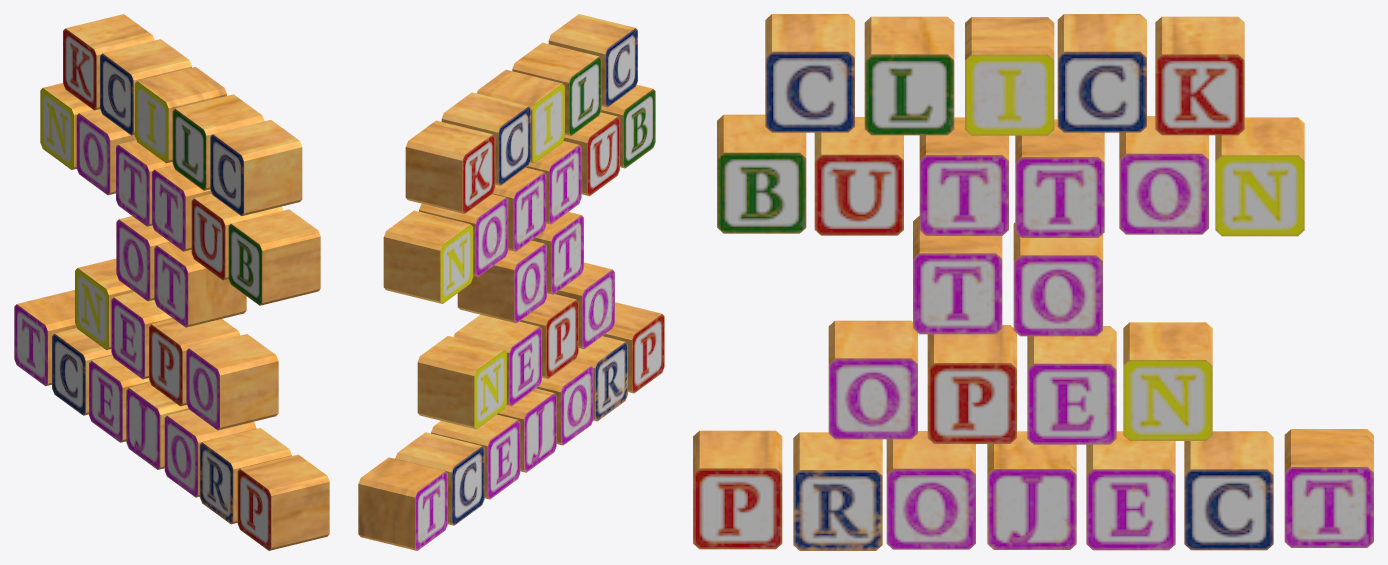
3 views of the same model, side by side, from view 1: azimuth 30°, elevation 25°; view 2: azimuth 150°, elevation 25°; view 3: azimuth 270°, elevation 25° (orthographic). The views are drawn at different scales.
Parts seen in each view (by area): view 1: O_low_DCletterblocks_0.003, C_low, B_low, P_low_DCletterblocks_0.002, T_low_DCletterblocks_0.003, I_low, R_low, L_low, C_low_DCletterblocks_0.002, K_low, P_low, T_low_DCletterblocks_0.004 (+12 smaller); view 2: K_low, N_low, T_low_DCletterblocks_0.004, N_low_DCletterblocks_0.002, O_low_DCletterblocks_0.002, C_low, L_low, C_low_DCletterblocks_0.002, C_low_DCletterblocks_0.003, I_low, E_low, E_low_DCletterblocks_0.002 (+12 smaller); view 3: L_low, K_low, P_low_DCletterblocks_0.002, O_low_DCletterblocks_0.003, T_low_DCletterblocks_0.004, C_low_DCletterblocks_0.002, I_low, N_low_DCletterblocks_0.002, C_low, C_low_DCletterblocks_0.003, R_low, N_low (+12 smaller).
Part boxes in pixels (x1,y1,x2,y2): O_low_DCletterblocks_0.003: (186, 334, 278, 430); C_low: (210, 120, 302, 216); B_low: (228, 209, 320, 305); P_low_DCletterblocks_0.002: (237, 454, 329, 550); T_low_DCletterblocks_0.003: (154, 242, 246, 327); I_low: (135, 67, 226, 163); R_low: (199, 428, 291, 524); L_low: (172, 94, 264, 190); C_low_DCletterblocks_0.002: (100, 39, 191, 135); K_low: (63, 14, 154, 110); P_low: (149, 319, 240, 406); T_low_DCletterblocks_0.004: (14, 290, 76, 386); K_low: (405, 120, 495, 213); N_low: (383, 210, 473, 303); T_low_DCletterblocks_0.004: (358, 457, 447, 550); N_low_DCletterblocks_0.002: (417, 336, 506, 429); O_low_DCletterblocks_0.002: (457, 240, 546, 323); C_low: (548, 14, 637, 107); L_low: (512, 42, 601, 135); C_low_DCletterblocks_0.002: (441, 92, 530, 185); C_low_DCletterblocks_0.003: (395, 432, 484, 525); I_low: (476, 69, 564, 163); E_low: (453, 314, 541, 406); E_low_DCletterblocks_0.002: (431, 414, 520, 499); L_low: (864, 16, 954, 135); K_low: (1155, 16, 1244, 135); P_low_DCletterblocks_0.002: (693, 430, 782, 549); O_low_DCletterblocks_0.003: (828, 320, 917, 439); T_low_DCletterblocks_0.004: (1284, 429, 1373, 547); C_low_DCletterblocks_0.002: (1057, 14, 1146, 132); I_low: (965, 17, 1054, 135); N_low_DCletterblocks_0.002: (1123, 322, 1212, 440); C_low: (765, 14, 854, 132); C_low_DCletterblocks_0.003: (1184, 431, 1273, 550); R_low: (793, 432, 882, 550); N_low: (1215, 117, 1304, 236).
Size of the model in its own units: 0.2 by 1.23 by 1.52.
12 materials, 12 textured.
